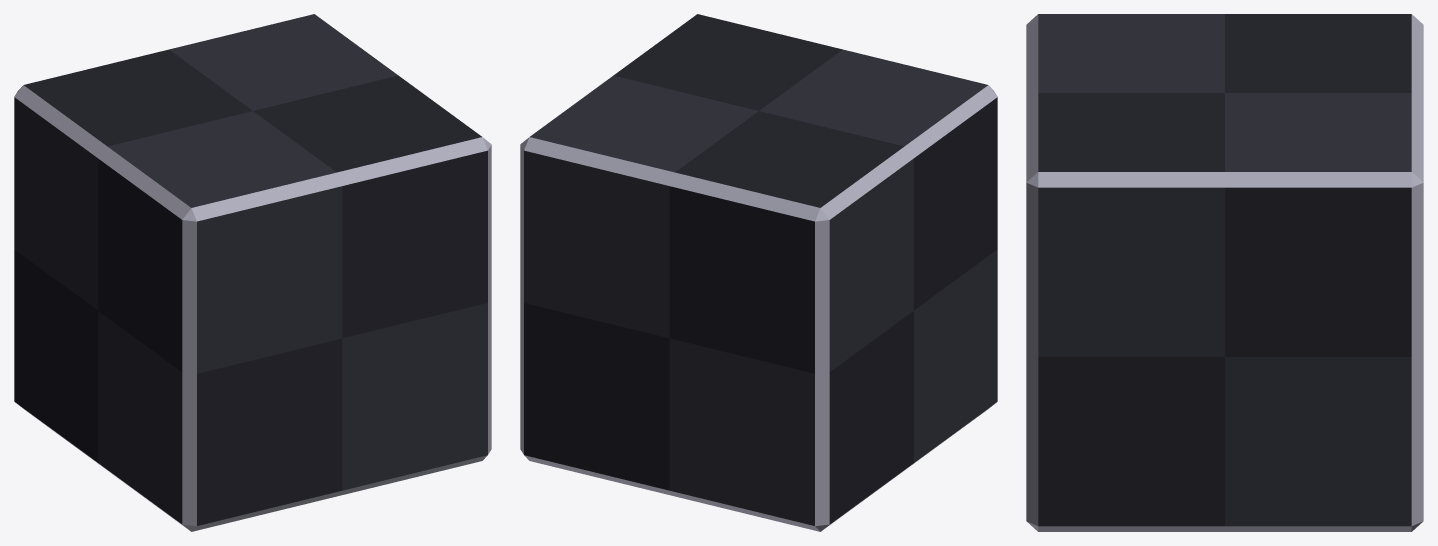
Rendered from PMP-M-Ground-Main-0.66x0.66x0.66-V1.fbx.
The picture shows the model from 3 angles, left to right: view 1: azimuth 30°, elevation 25°; view 2: azimuth 150°, elevation 25°; view 3: azimuth 270°, elevation 25°; orthographic projection. The views are drawn at different scales.
Parts seen in each view (by area): view 1: MONO-Terrain-A-0.66x0.66x0.66; view 2: MONO-Terrain-A-0.66x0.66x0.66; view 3: MONO-Terrain-A-0.66x0.66x0.66.
Boxes of the visible parts, x1,y1,x2,y2 form: MONO-Terrain-A-0.66x0.66x0.66: [14, 14, 491, 531]; MONO-Terrain-A-0.66x0.66x0.66: [520, 14, 997, 531]; MONO-Terrain-A-0.66x0.66x0.66: [1026, 14, 1423, 531].
Bounding box in the file's own units: 66 × 66 × 66.
